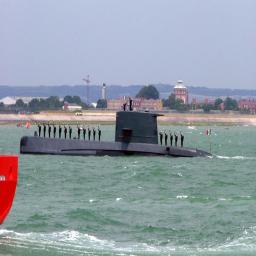submarine: (20, 112, 226, 159)
